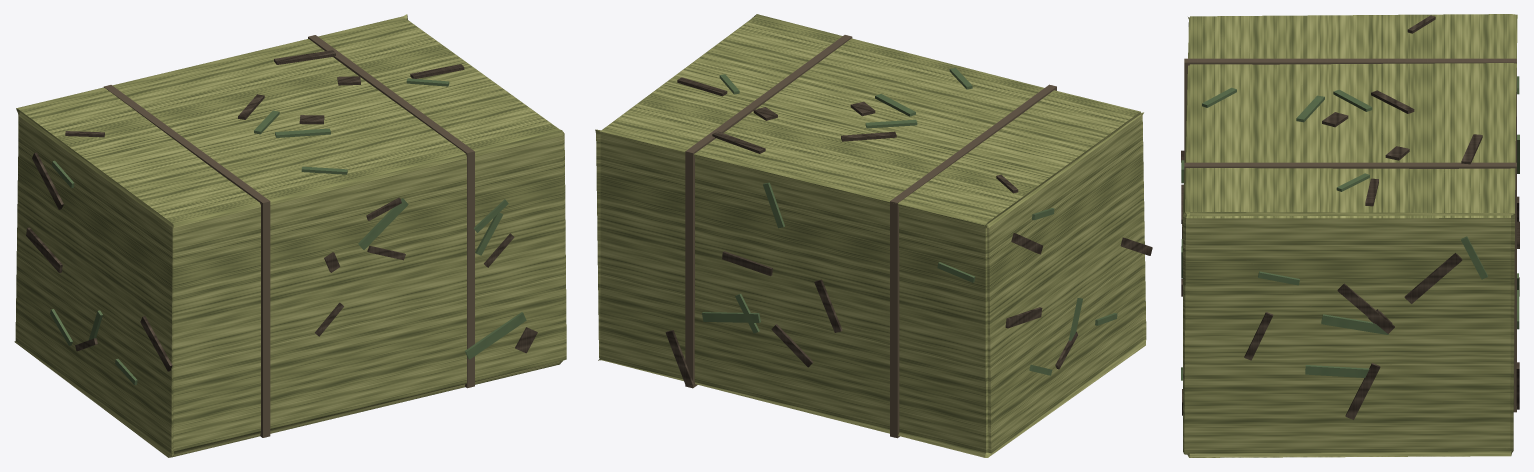
The model's file is bale_pine.glb.
3 renders of one model, left to right at view 1: azimuth 30°, elevation 25°; view 2: azimuth 150°, elevation 25°; view 3: azimuth 270°, elevation 25°, orthographic. The views are drawn at different scales.
Visible parts, largest first — view 1: BalePine; view 2: BalePine; view 3: BalePine.
Part boxes in pixels (<box>): BalePine: <box>14,14,566,457</box>; BalePine: <box>595,14,1152,457</box>; BalePine: <box>1181,14,1519,457</box>.
Bounding box in the file's own units: 1.31 × 0.7484 × 0.921.
4 materials, 3 textured.
